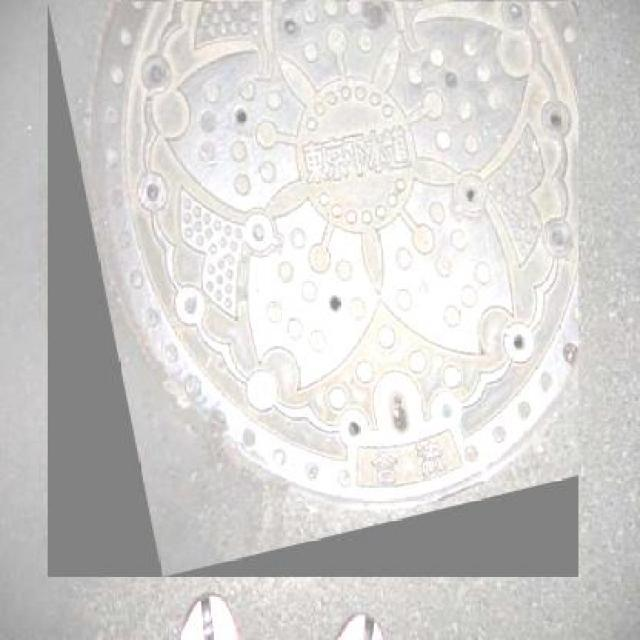Manhole: (48, 1, 578, 577)
